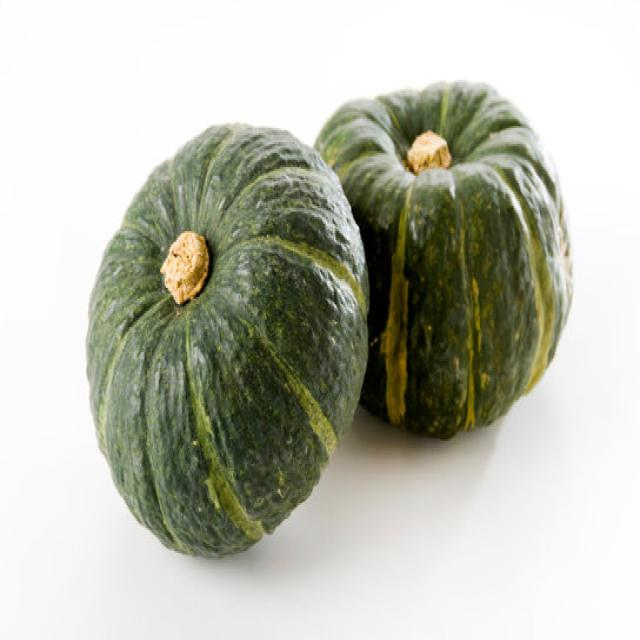Pumpkin: (85, 108, 372, 547), (312, 77, 573, 439)
